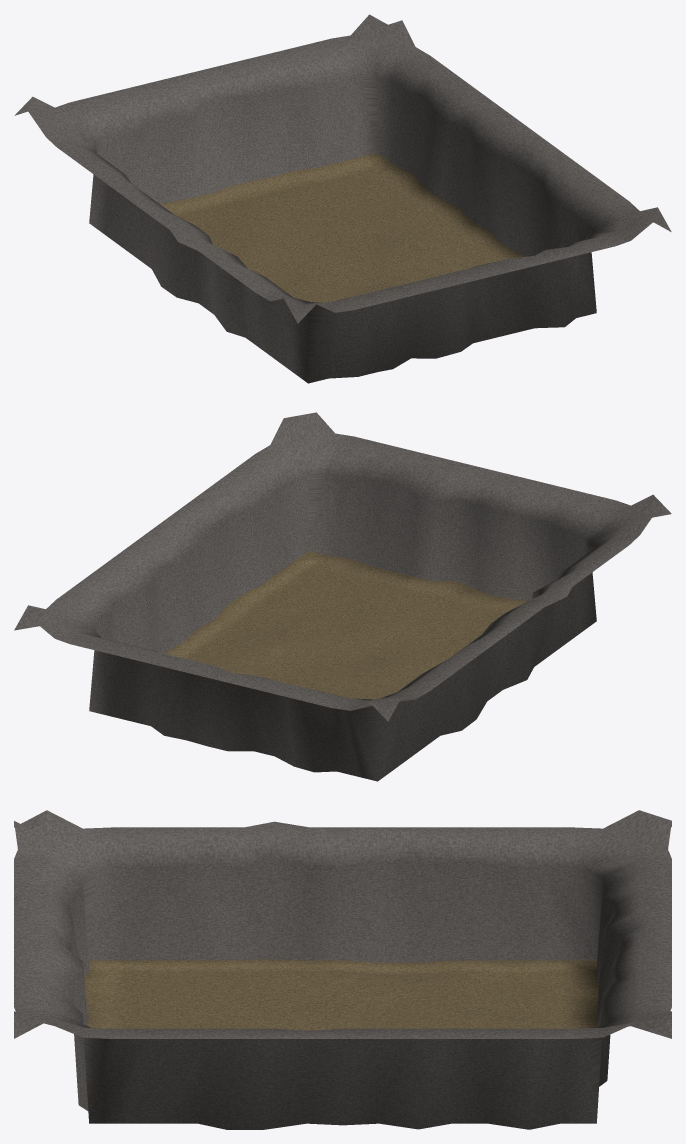
File: Terrain2_Stage3_Asset.fbx
3 renders of one model, top to bottom at view 1: azimuth 30°, elevation 25°; view 2: azimuth 150°, elevation 25°; view 3: azimuth 270°, elevation 25°, orthographic. The views are drawn at different scales.
Visible parts, largest first — view 1: Terrain2_Stage3_Asset; view 2: Terrain2_Stage3_Asset; view 3: Terrain2_Stage3_Asset.
Part boxes in pixels (x1,y1,x2,y2): Terrain2_Stage3_Asset: [14, 14, 671, 383]; Terrain2_Stage3_Asset: [14, 412, 671, 781]; Terrain2_Stage3_Asset: [14, 810, 671, 1129].
Size of the model in its own units: 80.68 by 22.97 by 104.
